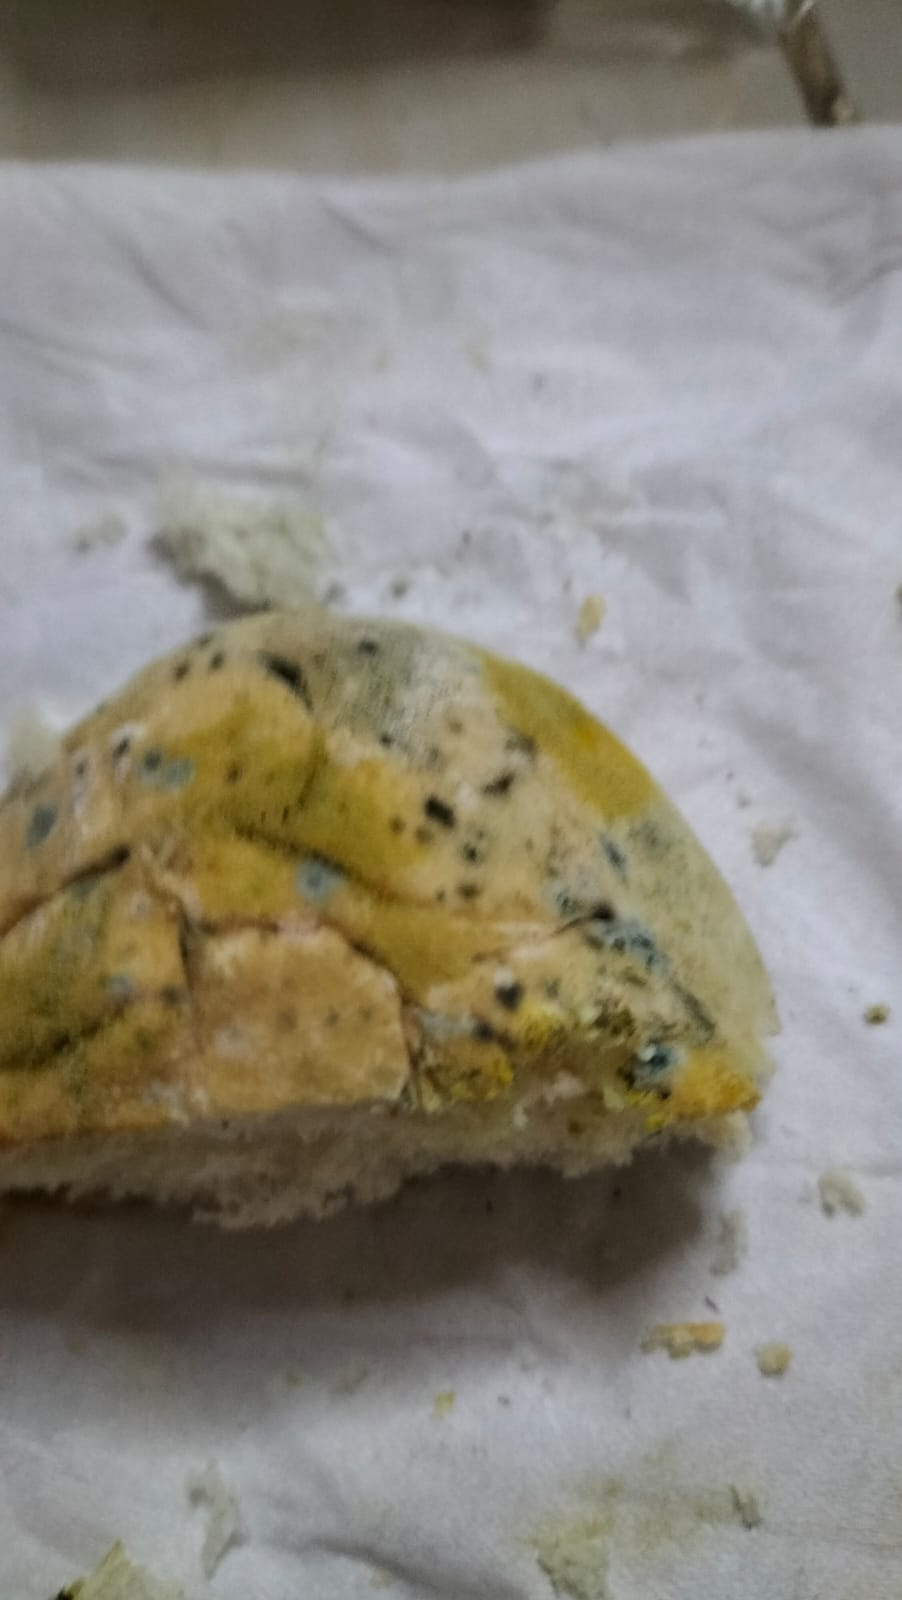mold_bread: (552, 891, 672, 990), (615, 1027, 687, 1096), (114, 732, 191, 789), (376, 716, 439, 768), (167, 631, 227, 681), (455, 842, 488, 912), (298, 857, 343, 904), (21, 801, 66, 846), (634, 816, 678, 860), (597, 832, 628, 886), (455, 1019, 505, 1051), (420, 789, 459, 829), (97, 967, 138, 1003), (505, 724, 541, 767), (493, 979, 532, 1016), (478, 770, 515, 802), (68, 744, 97, 785), (349, 627, 381, 664), (130, 890, 158, 922), (224, 760, 245, 788)
